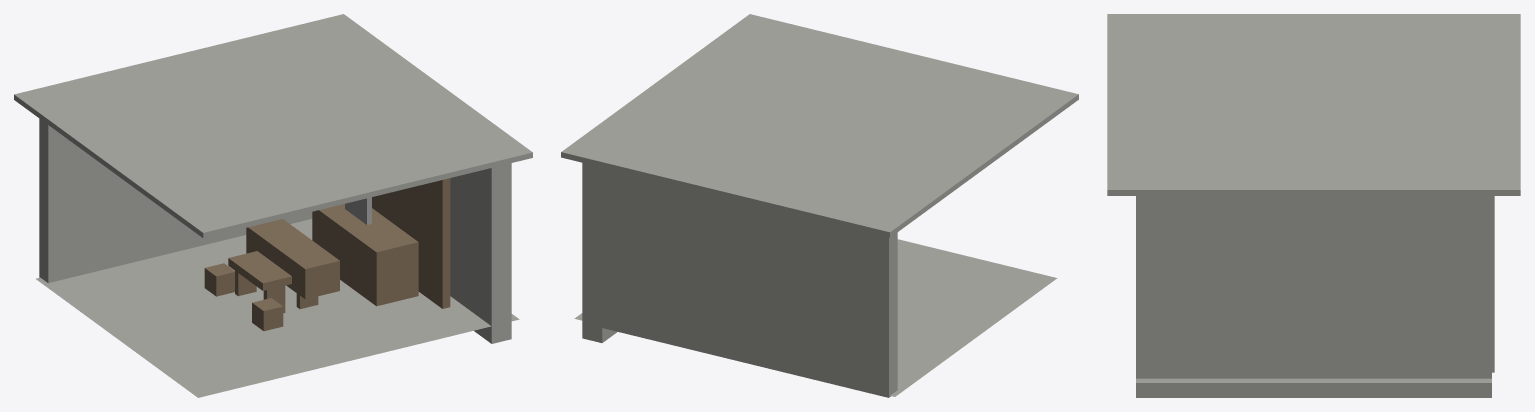
The model's file is funeral_block.fbx.
The picture shows the model from 3 angles, left to right: view 1: azimuth 30°, elevation 25°; view 2: azimuth 150°, elevation 25°; view 3: azimuth 270°, elevation 25°; orthographic projection. The views are drawn at different scales.
Parts seen in each view (by area): view 1: pPlane89, pPlane92, pPlane90, pPlane95, pPlane99, pPlane107, pPlane98, pPlane97, pPlane106, pPlane105, pPlane104; view 2: pPlane89, pPlane90, pPlane92, pPlane95; view 3: pPlane89, pPlane95, pPlane92, pPlane90.
Part boxes in pixels (x1=…): pPlane89: x1=14, y1=14, x2=532, y2=238; pPlane92: x1=35, y1=219, x2=519, y2=397; pPlane90: x1=39, y1=118, x2=312, y2=283; pPlane95: x1=450, y1=163, x2=511, y2=343; pPlane99: x1=312, y1=204, x2=418, y2=306; pPlane107: x1=372, y1=178, x2=450, y2=308; pPlane98: x1=246, y1=219, x2=339, y2=299; pPlane97: x1=228, y1=251, x2=291, y2=290; pPlane106: x1=252, y1=298, x2=283, y2=331; pPlane105: x1=204, y1=263, x2=234, y2=296; pPlane104: x1=345, y1=197, x2=371, y2=224; pPlane89: x1=561, y1=14, x2=1078, y2=237; pPlane90: x1=595, y1=166, x2=897, y2=397; pPlane92: x1=574, y1=239, x2=1057, y2=396; pPlane95: x1=582, y1=163, x2=617, y2=342; pPlane89: x1=1107, y1=14, x2=1520, y2=195; pPlane95: x1=1136, y1=196, x2=1491, y2=397; pPlane92: x1=1136, y1=378, x2=1491, y2=382; pPlane90: x1=1492, y1=196, x2=1494, y2=372.
Size of the model in its own units: 8.49 by 4.78 by 8.43.
